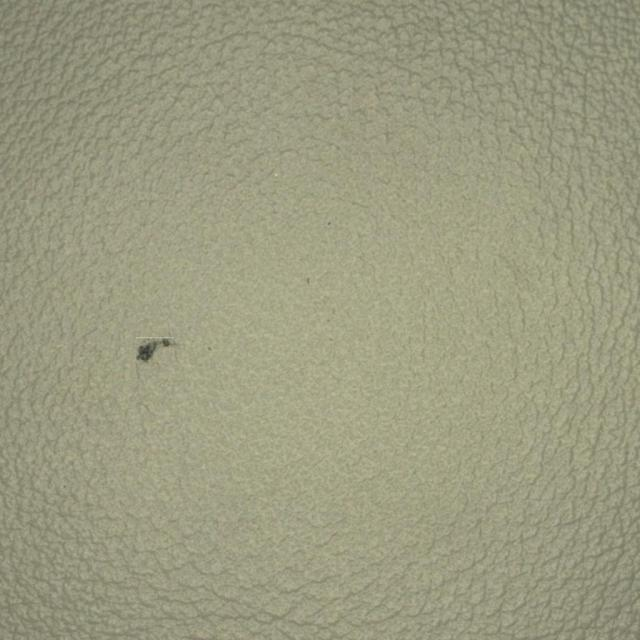Hole: (98, 256, 221, 417)
